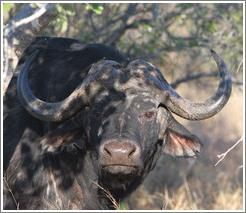Buffalo: (29, 56, 243, 213)
